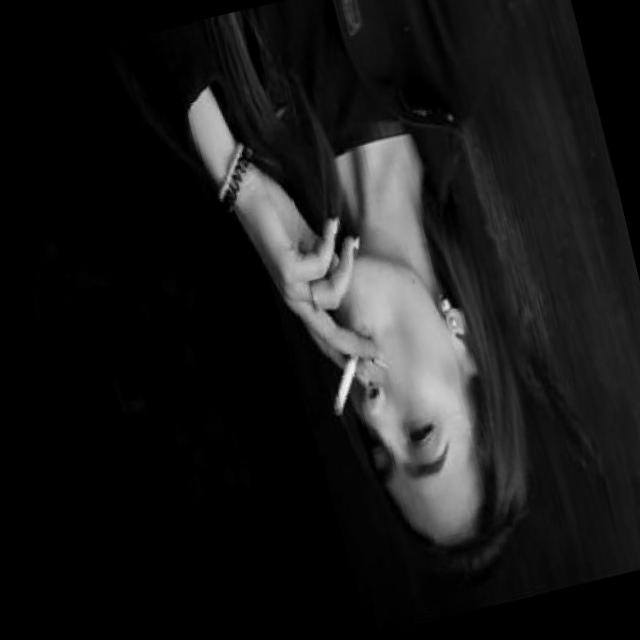smoke: (319, 350, 371, 419)
